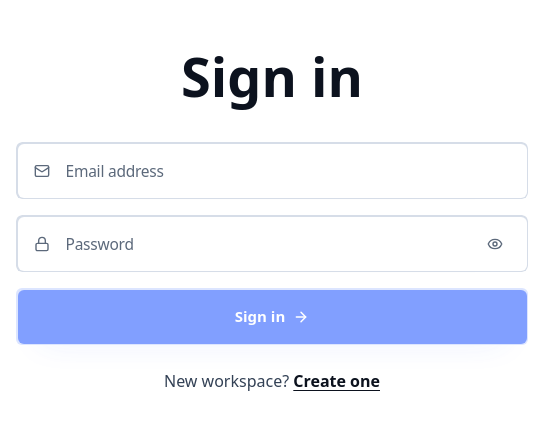
Scenario: Login auth entry › shows retry timing for login rate limiting
Type "owner@acme.com" into the field with placeholder "Email address" at (272, 171), box [18,144,526,198]
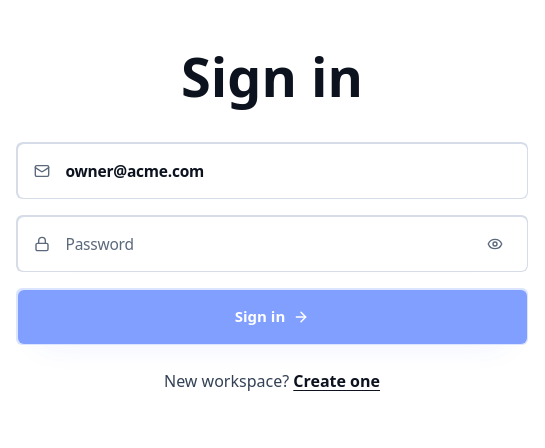
Type "Smoke2026" into the password field with placeholder "Password" at (272, 244), box [18,217,526,271]
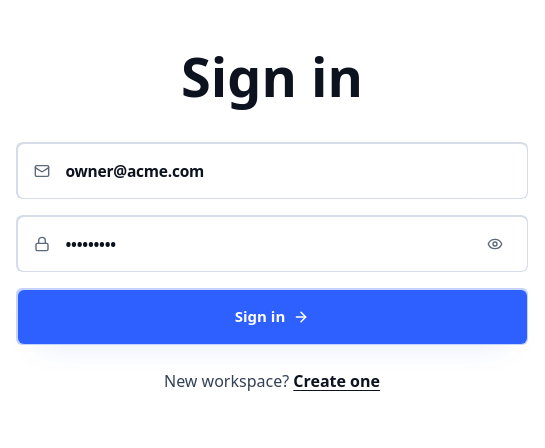
Click the button "Sign in" at (272, 317), box [16,288,528,345]
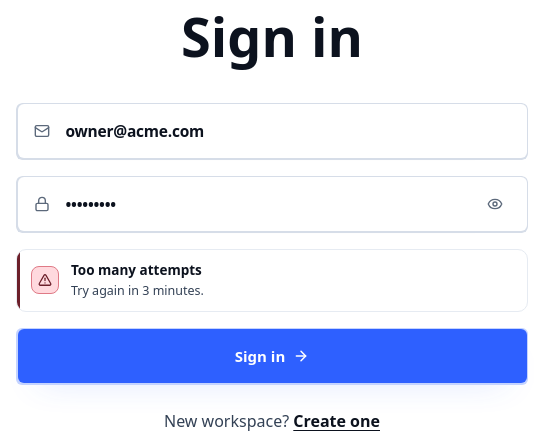
expect the text "Too many attempts" is shown: met, box [71,261,202,279]
expect the text "Try again in 3 minutes." is shown: met, box [71,282,204,299]
